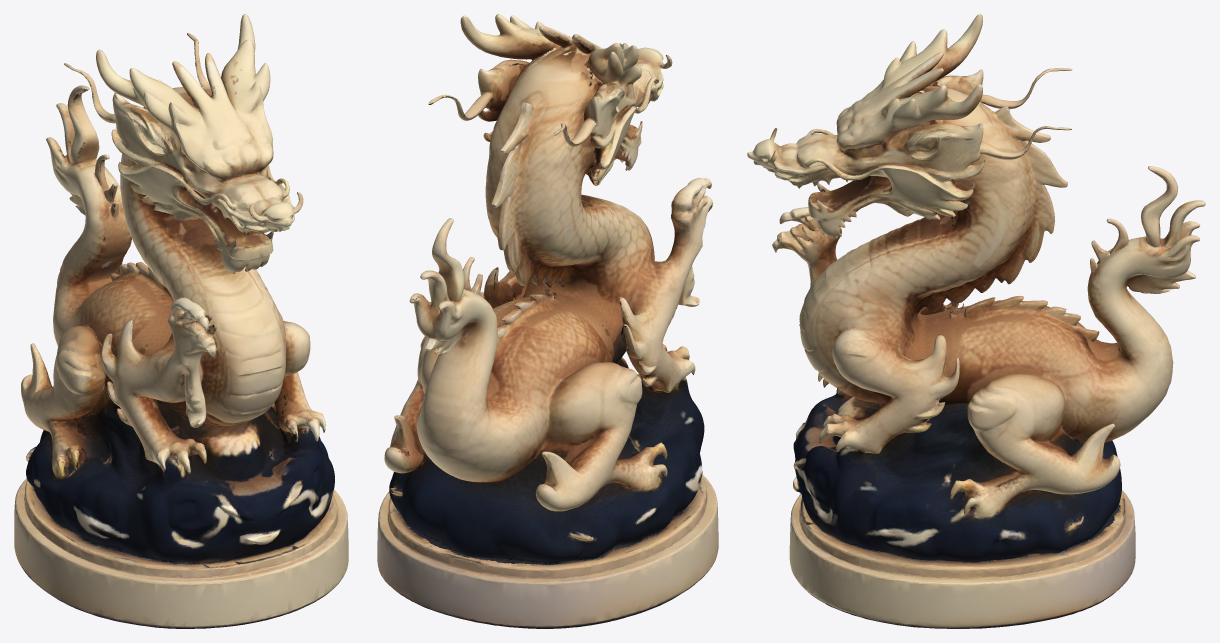
Rendered from knight_black.glb.
3 views of the same model, side by side, from view 1: azimuth 30°, elevation 25°; view 2: azimuth 150°, elevation 25°; view 3: azimuth 270°, elevation 25° (orthographic). The views are drawn at different scales.
Parts seen in each view (by area): view 1: model; view 2: model; view 3: model.
Part boxes in pixels (x1=…): model: x1=14, y1=14, x2=348, y2=628; model: x1=377, y1=14, x2=718, y2=628; model: x1=747, y1=14, x2=1205, y2=628.
Size of the model in its own units: 1.07 by 1.9 by 1.54.
1 material, 1 textured.
